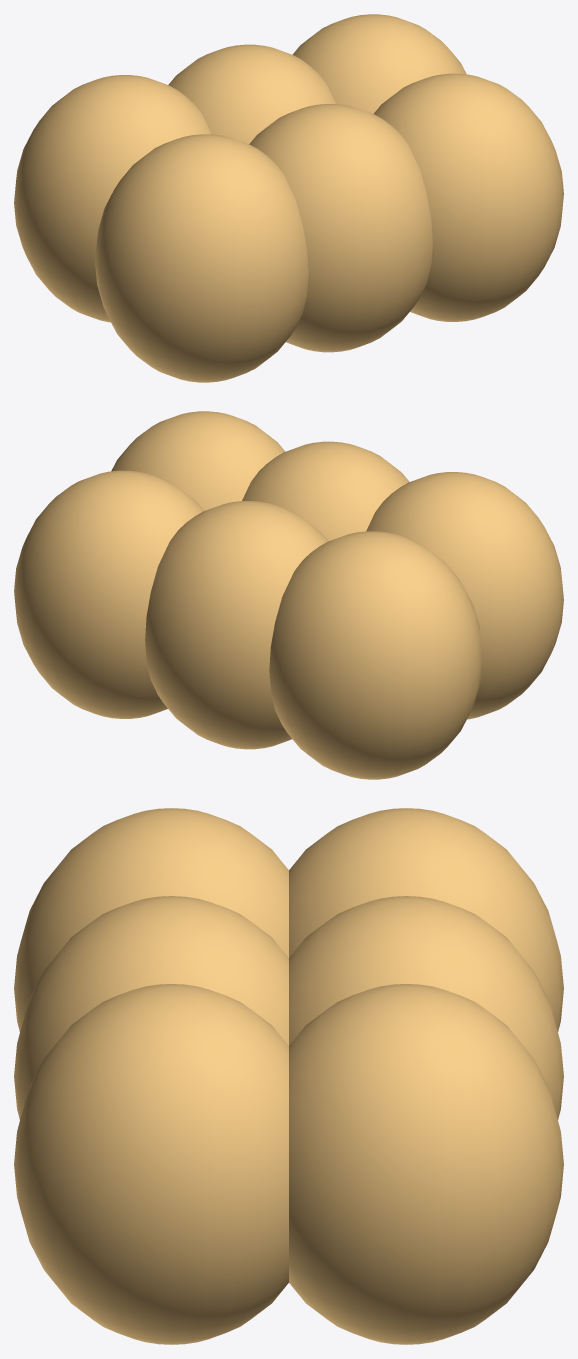
Rendered from brioche.glb.
3 views of the same model, one above another, from view 1: azimuth 30°, elevation 25°; view 2: azimuth 150°, elevation 25°; view 3: azimuth 270°, elevation 25° (orthographic). The views are drawn at different scales.
Parts seen in each view (by area): view 1: 밝은 구움색; view 2: 밝은 구움색; view 3: 밝은 구움색.
Boxes of the visible parts, box(x1,y1,x2,y2) form: 밝은 구움색: box(14, 14, 563, 382); 밝은 구움색: box(14, 411, 563, 779); 밝은 구움색: box(14, 808, 563, 1344).
Size of the model in its own units: 2.2 by 1.1 by 1.64.
